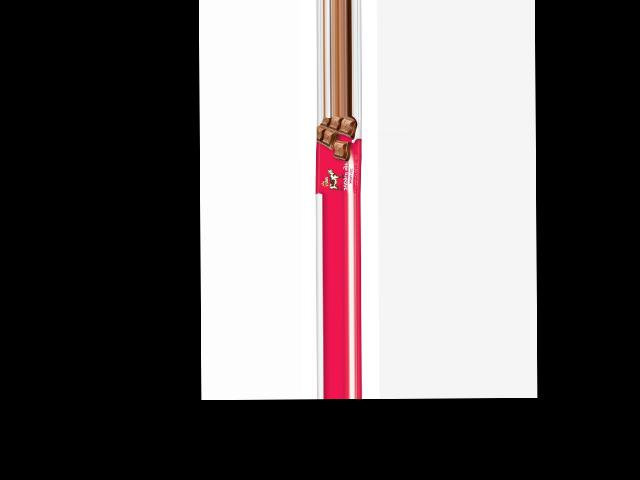chocolate: (316, 116, 362, 195)
